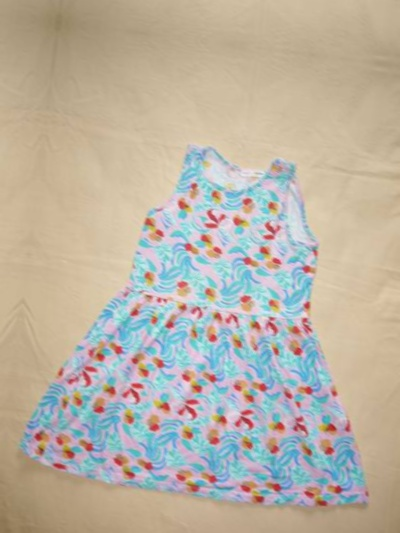Dress: (22, 124, 400, 524), (0, 72, 24, 473)
